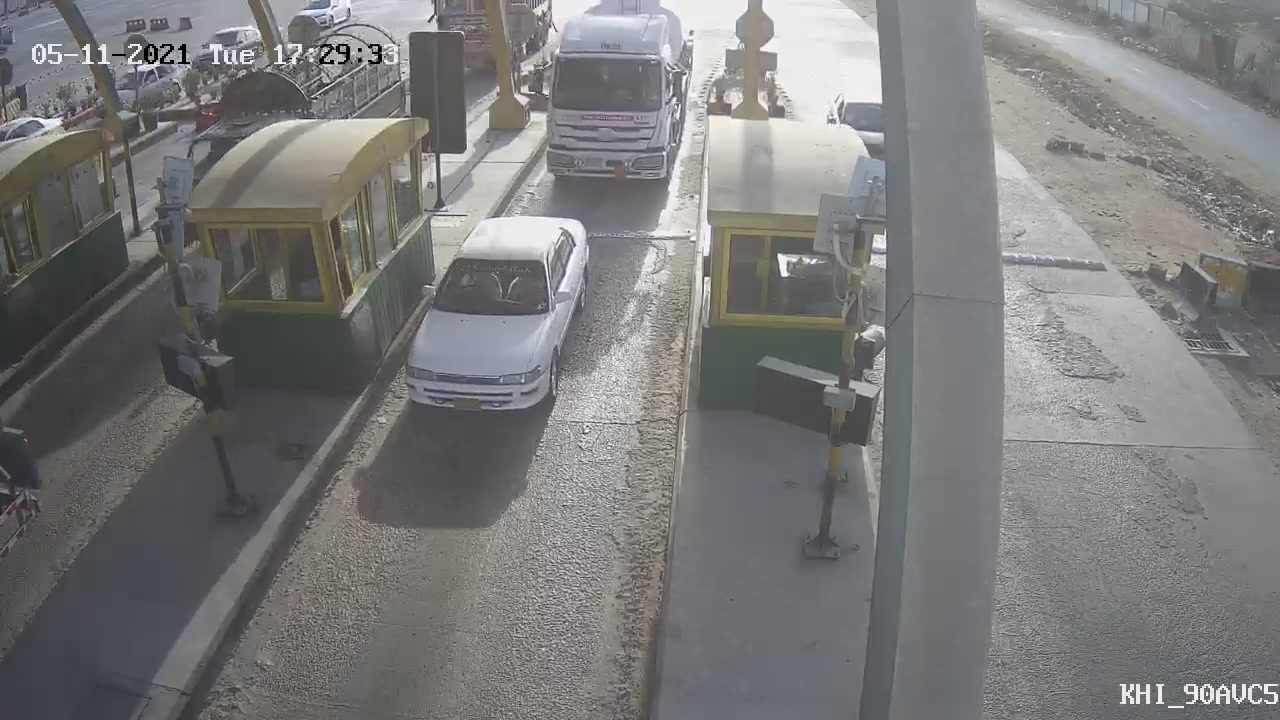F1: (386, 191, 605, 431)
